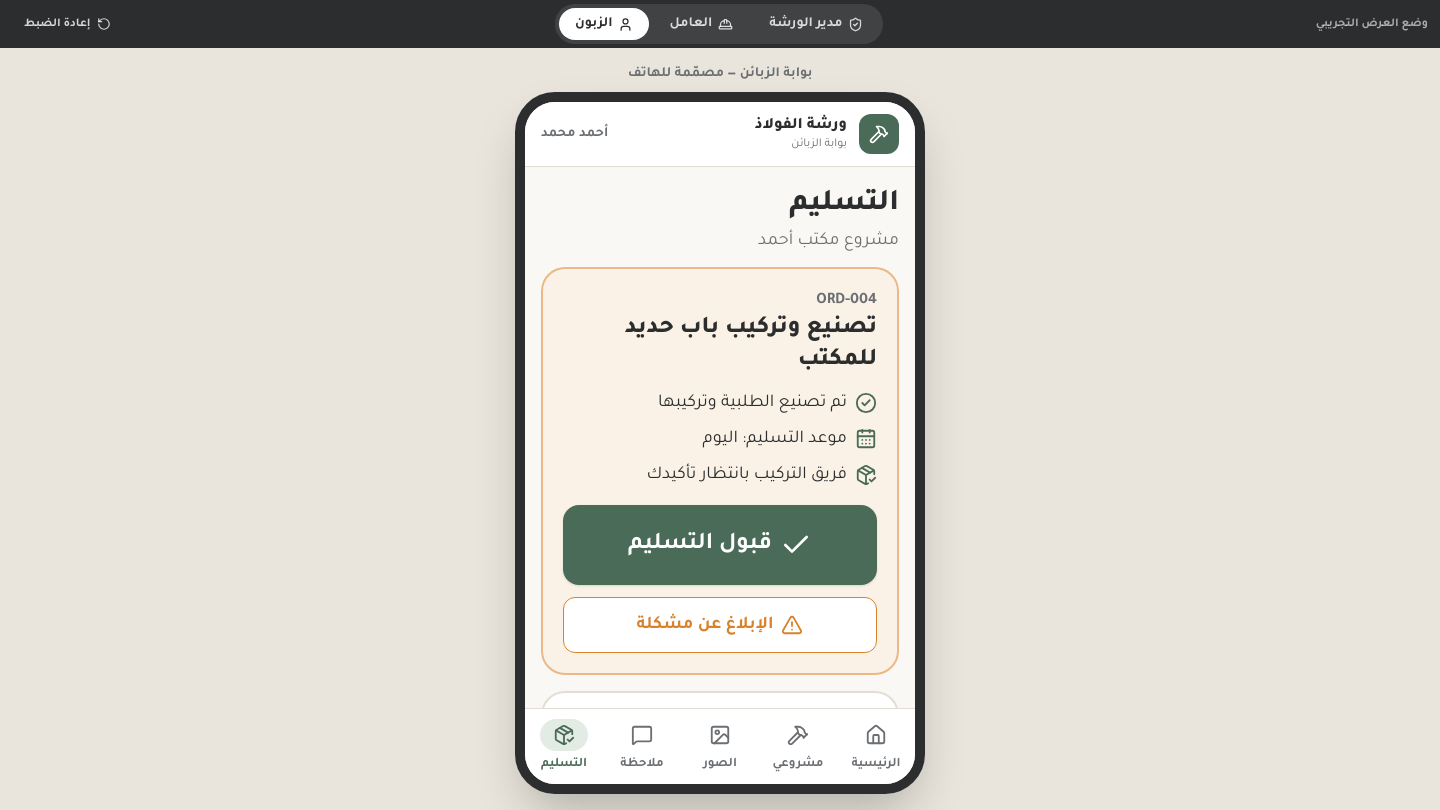
Test case: flows › customer accept
Click the button "قبول التسليم" at (720, 545), box [563,505,877,585]
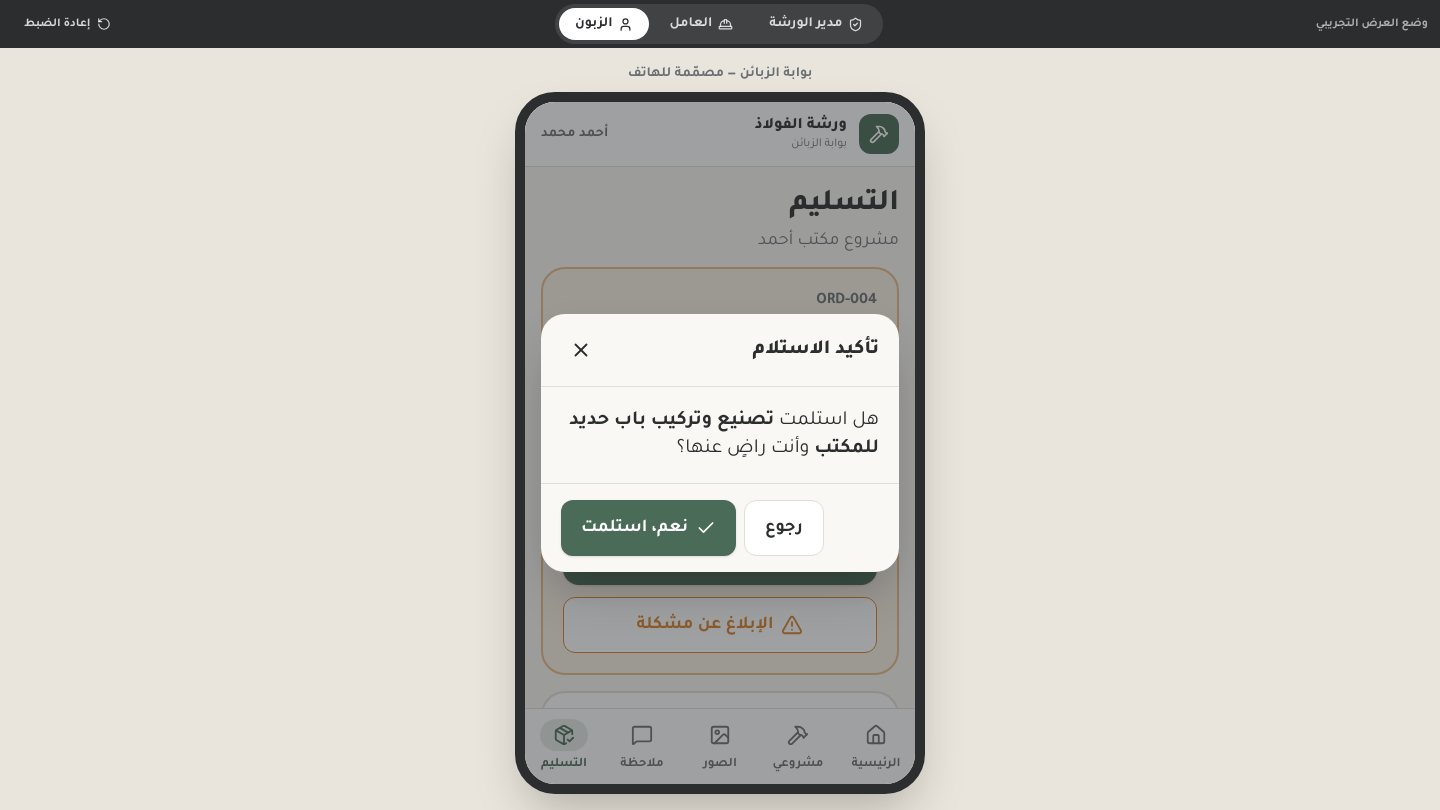
Click the button "نعم، استلمت" at (648, 528), box [561,500,736,556]
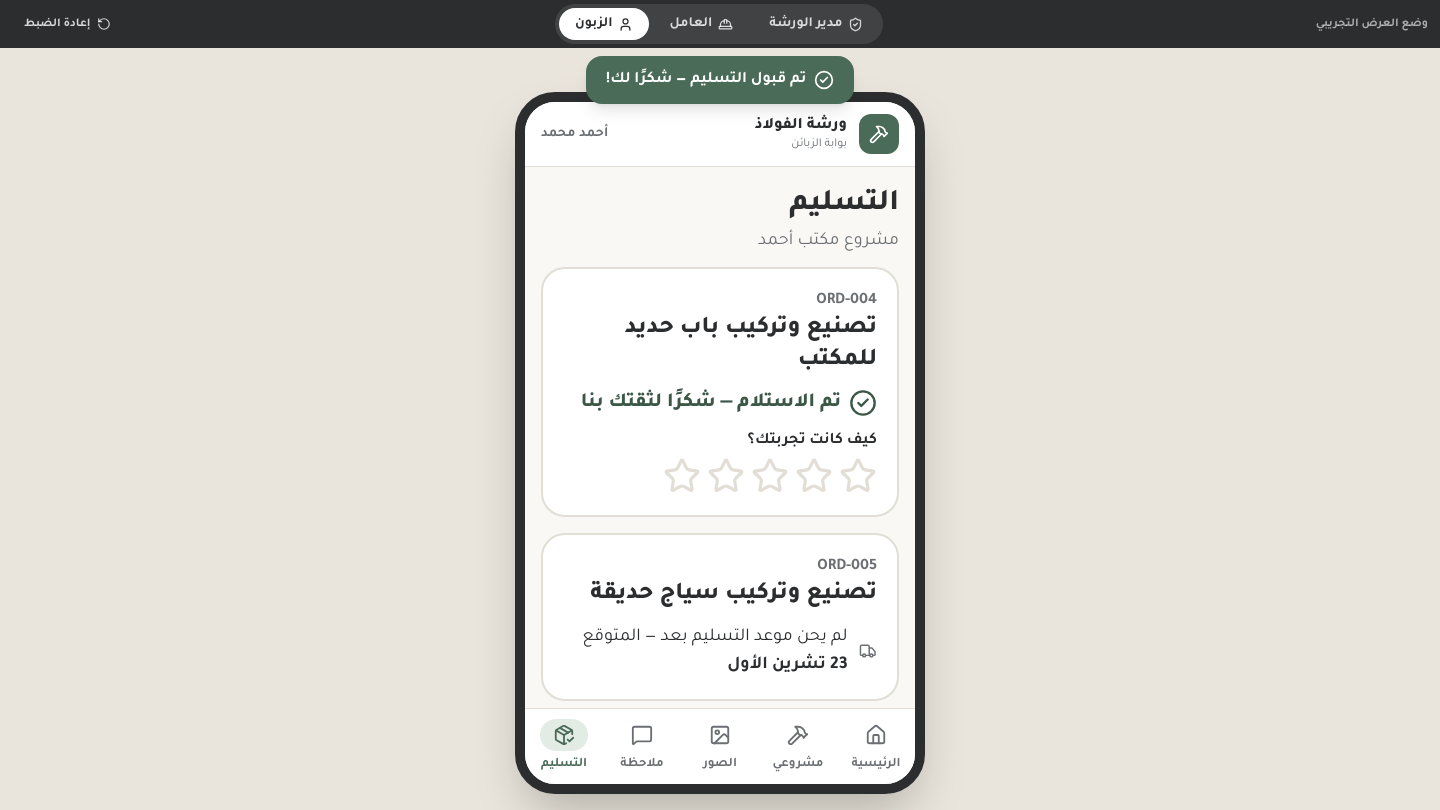
Expected: the text "تم الاستلام — شكرًا لثقتك بنا" is shown, [563,389,877,417]
